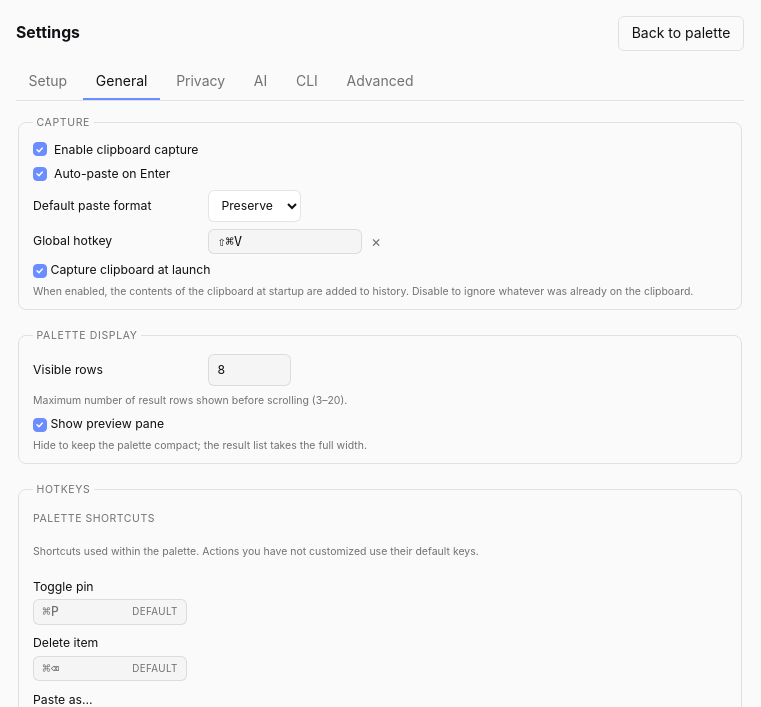
Scenario: SettingsView › switches the visible fieldset when a tab is clicked
Click the tab "Privacy". click: (201,82)
box: [164,65,238,100]
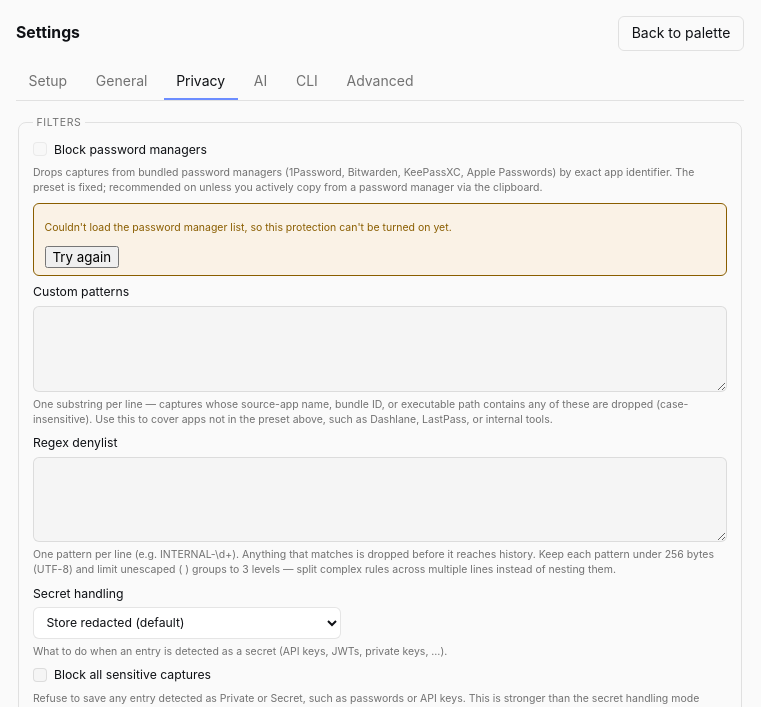
expect the text "Custom patterns" is shown: met, box [33,284,129,299]
